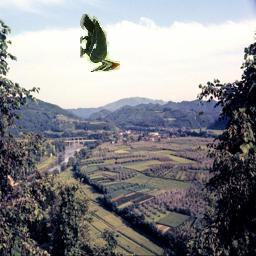Woodpecker: (80, 14, 120, 72)
